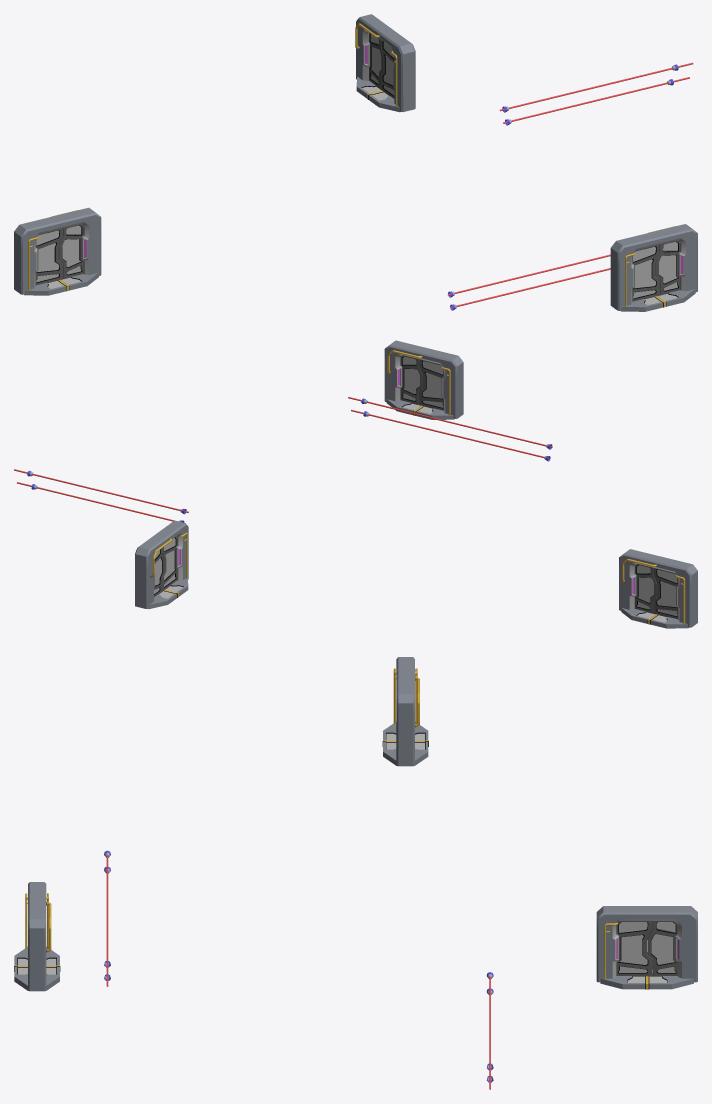
3 renders of one model, top to bottom at view 1: azimuth 30°, elevation 25°; view 2: azimuth 150°, elevation 25°; view 3: azimuth 270°, elevation 25°, orthographic. The views are drawn at different scales.
Parts seen in each view (by area): view 1: Base (×3), Right (×3), Left (×3), Base5 (×3); view 2: Base (×3), Right (×3), Base5 (×3), Left (×2); view 3: Base (×3), Base5 (×3), Right, Left.
Boxes of the visible parts, bbox=[...] form: Base (×3): bbox=[14, 14, 697, 310]; Right (×3): bbox=[35, 40, 660, 301]; Left (×3): bbox=[59, 33, 680, 295]; Base5 (×3): bbox=[24, 77, 695, 311]; Base (×3): bbox=[135, 340, 697, 627]; Right (×3): bbox=[162, 359, 678, 619]; Base5 (×3): bbox=[148, 399, 688, 628]; Left (×2): bbox=[400, 355, 657, 613]; Base (×3): bbox=[28, 657, 697, 991]; Base5 (×3): bbox=[14, 722, 693, 990]; Right: bbox=[616, 921, 652, 976]; Left: bbox=[647, 921, 677, 976].
Bounding box in the file's own units: 485 × 43.75 × 368.
